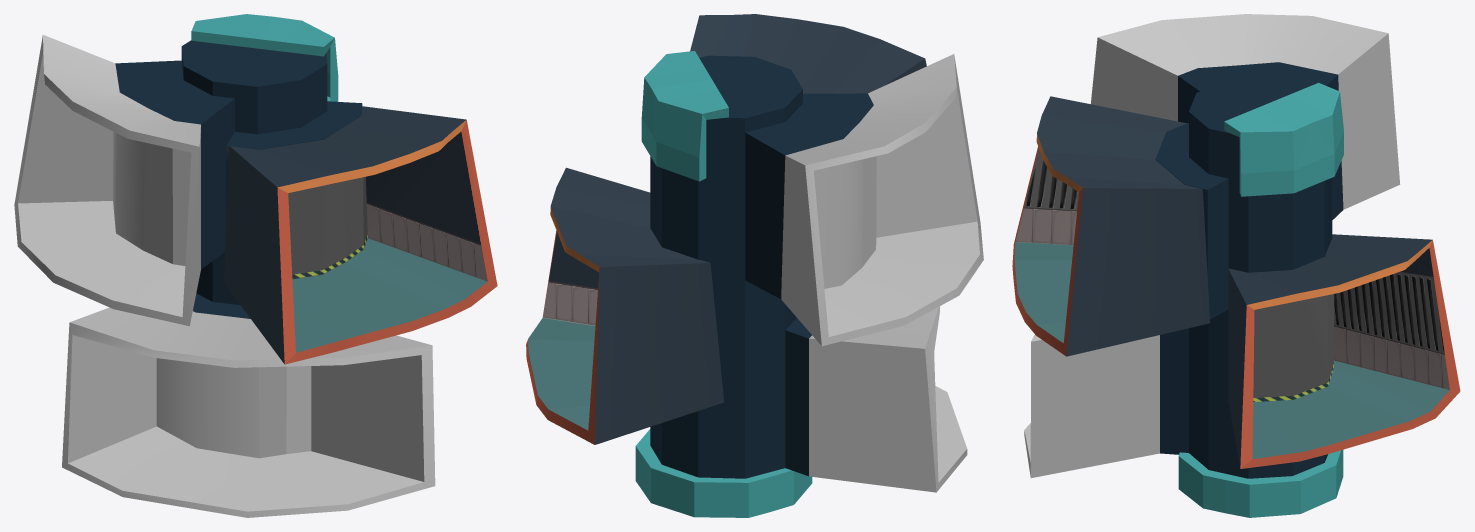
File: Floor-2.FBX
3 renders of one model, left to right at view 1: azimuth 30°, elevation 25°; view 2: azimuth 150°, elevation 25°; view 3: azimuth 270°, elevation 25°, orthographic. The views are drawn at different scales.
Parts seen in each view (by area): view 1: Group009, z004, Cylinder010, Group010; view 2: Group009, Cylinder010, z004, Group010, Group011; view 3: Group009, z004, Cylinder010, Group010, Group011.
Part boxes in pixels (left/top/right/bottom): Group009: left=14, top=35, right=435, bottom=517; z004: left=224, top=106, right=497, bottom=364; Cylinder010: left=115, top=40, right=362, bottom=318; Group010: left=191, top=14, right=338, bottom=101; Group009: left=526, top=54, right=983, bottom=492; Cylinder010: left=650, top=55, right=873, bottom=478; z004: left=690, top=14, right=926, bottom=93; Group010: left=641, top=51, right=728, bottom=181; Group011: left=635, top=429, right=812, bottom=517; Group009: left=1024, top=14, right=1460, bottom=478; z004: left=1012, top=96, right=1210, bottom=356; Cylinder010: left=1155, top=62, right=1343, bottom=478; Group010: left=1224, top=82, right=1343, bottom=196; Group011: left=1178, top=450, right=1343, bottom=517.
Size of the model in its own units: 35.69 by 33.5 by 35.44.
